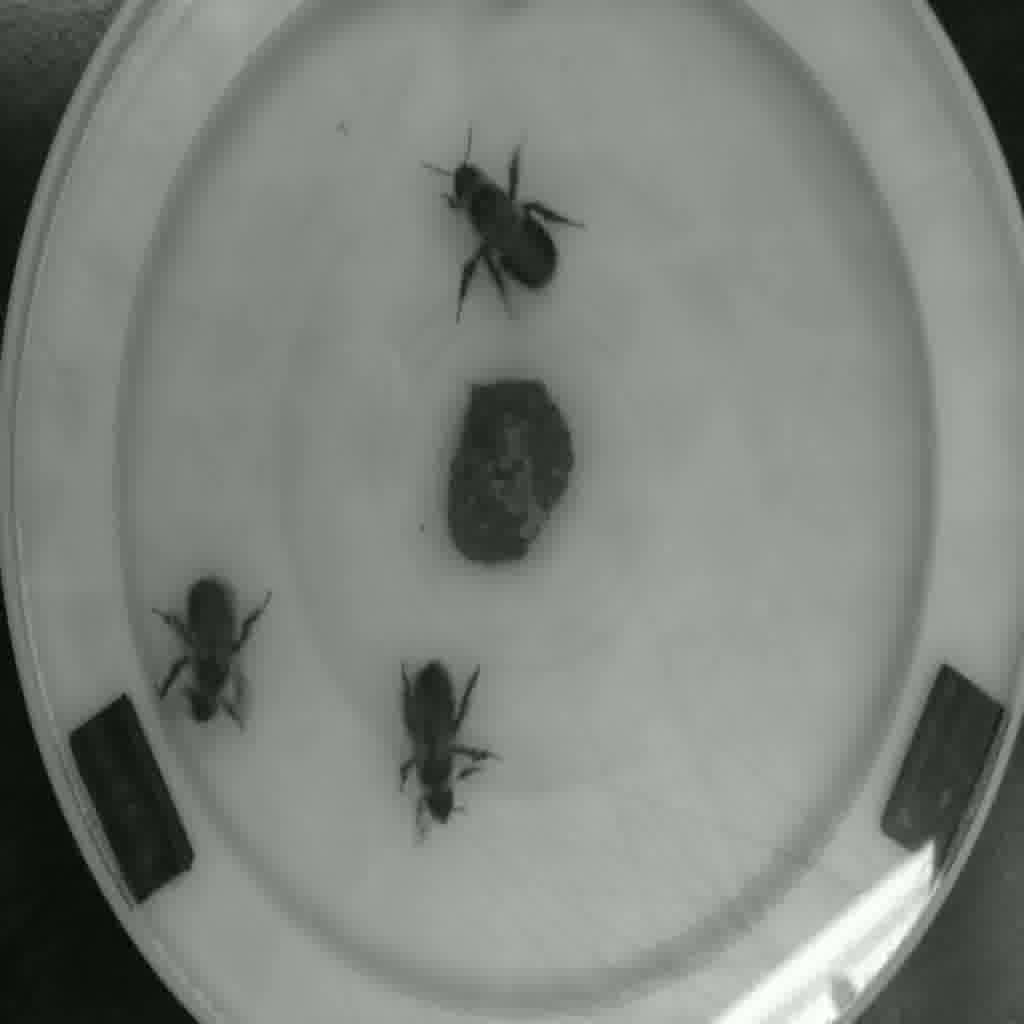bee: (154, 559, 271, 731), (449, 144, 561, 320), (391, 654, 486, 824)
